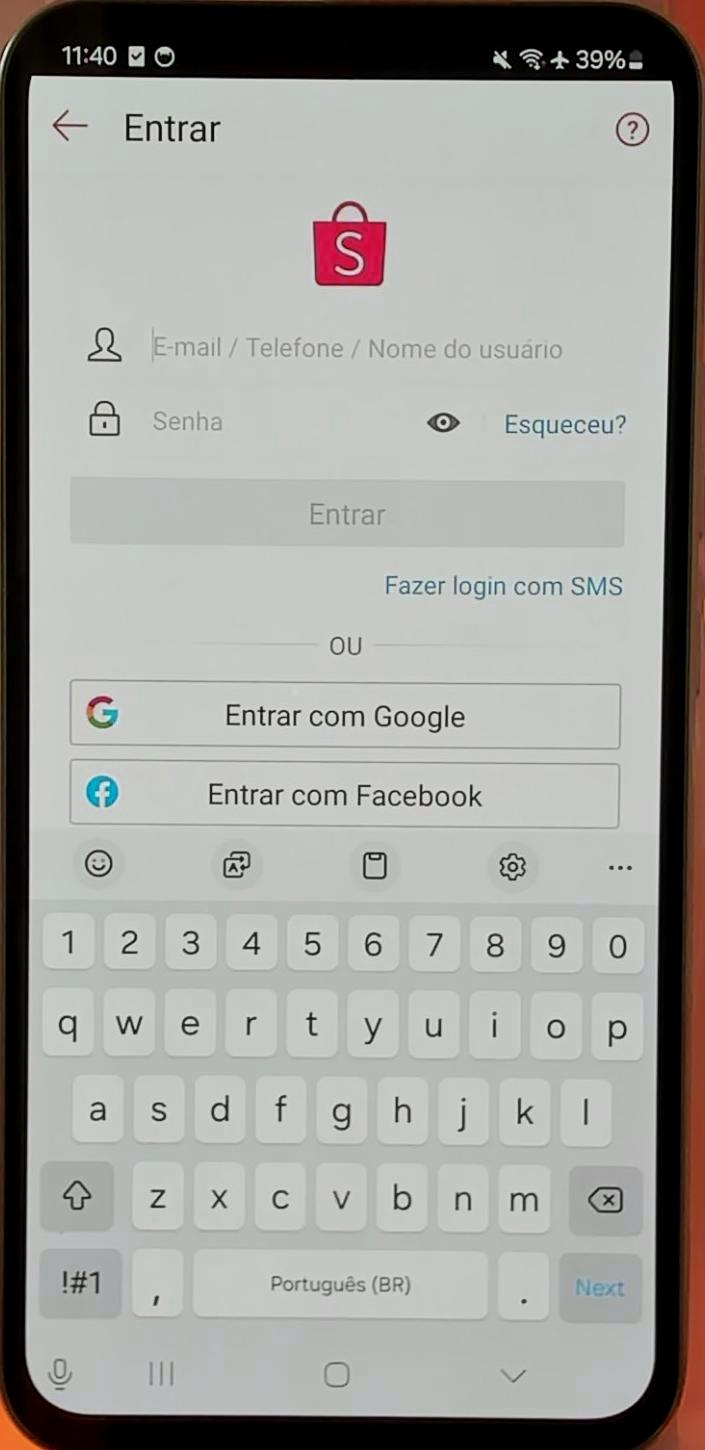CommunBotton: (62, 678, 632, 756), (600, 98, 668, 158), (46, 94, 86, 150)
TextField: (68, 302, 632, 380), (76, 384, 632, 456)
TextKeyboard: (36, 896, 654, 1336)
